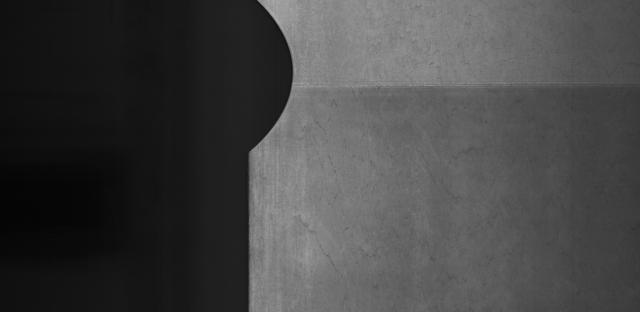crescent_gap: (221, 0, 305, 156)
silk_spot: (294, 114, 626, 299), (370, 14, 518, 70)
welding_line: (282, 76, 640, 98)
